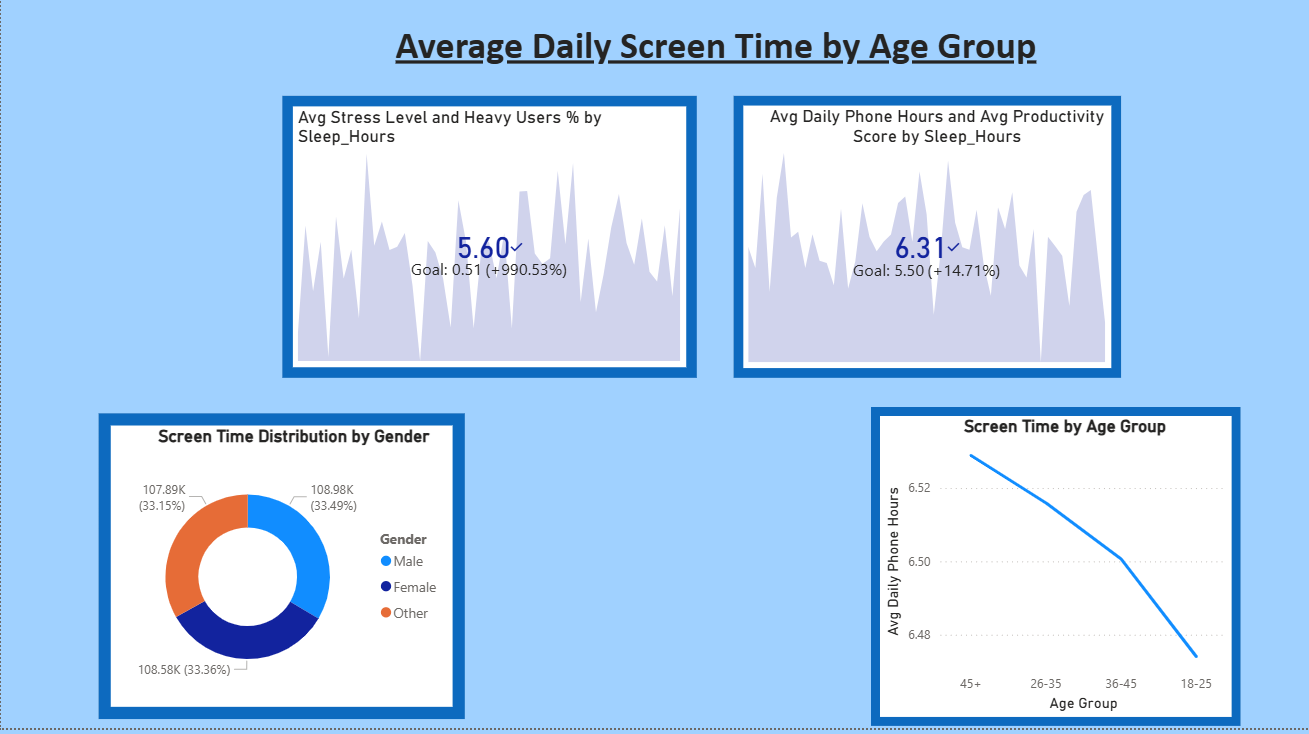

This screenshot's page, from the dashboard's own definition file:
{"tool":"powerbi","page":{"name":"Page 1","canvas":[1280,720],"ordinal":0},"visuals":[{"type":"kpi","fields":{"Indicator":["Smartphone_Usage_Productivity_Dataset_50000.Avg Daily Phone Hours"],"Goal":["Smartphone_Usage_Productivity_Dataset_50000.Avg Productivity Score"],"TrendLine":["Smartphone_Usage_Productivity_Dataset_50000.Sleep_Hours"]},"box":[716.6,101.5,379.1,276.4],"z":0},{"type":"donutChart","title":"Screen Time Distribution by Gender","fields":{"Category":["Smartphone_Usage_Productivity_Dataset_50000.Gender"],"Y":["Sum(Smartphone_Usage_Productivity_Dataset_50000.Daily_Phone_Hours)"]},"box":[95.4,412.1,358.3,299.6],"z":1000},{"type":"lineChart","title":"Screen Time by Age Group","fields":{"Category":["Smartphone_Usage_Productivity_Dataset_50000.Age Group"],"Y":["Smartphone_Usage_Productivity_Dataset_50000.Avg Daily Phone Hours"]},"box":[849.9,399.9,362,311.8],"z":2000},{"type":"textbox","box":[356.8,24.7,684.7,67.2],"z":3000},{"type":"kpi","fields":{"Indicator":["Smartphone_Usage_Productivity_Dataset_50000.Avg Stress Level"],"Goal":["Smartphone_Usage_Productivity_Dataset_50000.Heavy Users %"],"TrendLine":["Smartphone_Usage_Productivity_Dataset_50000.Sleep_Hours"]},"box":[275.1,101.5,406,276.4],"z":4000}]}

Visuals, with their boxes in screenshot pixels (x1, y1, x2, y2), scaled from the page's 1280x720 canvas onto the 1309x734 screenshot:
kpi - Smartphone_Usage_Productivity_Dataset_50000.Avg Daily Phone Hours x Smartphone_Usage_Productivity_Dataset_50000.Avg Productivity Score: 733 103 1121 385
"Screen Time Distribution by Gender" donutChart: 98 420 464 726
"Screen Time by Age Group" lineChart: 869 408 1239 726
textbox: 365 25 1065 94
kpi - Smartphone_Usage_Productivity_Dataset_50000.Avg Stress Level x Smartphone_Usage_Productivity_Dataset_50000.Heavy Users %: 281 103 697 385
